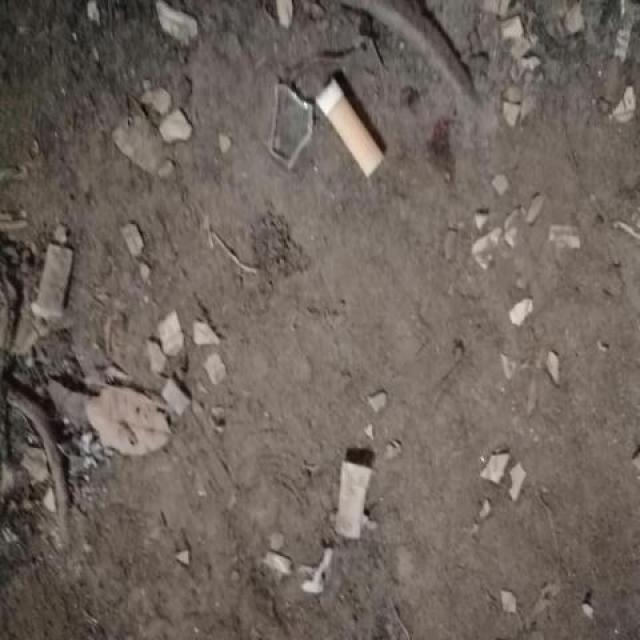non-organic waste: (309, 72, 392, 184), (28, 238, 76, 326), (332, 451, 377, 541)
